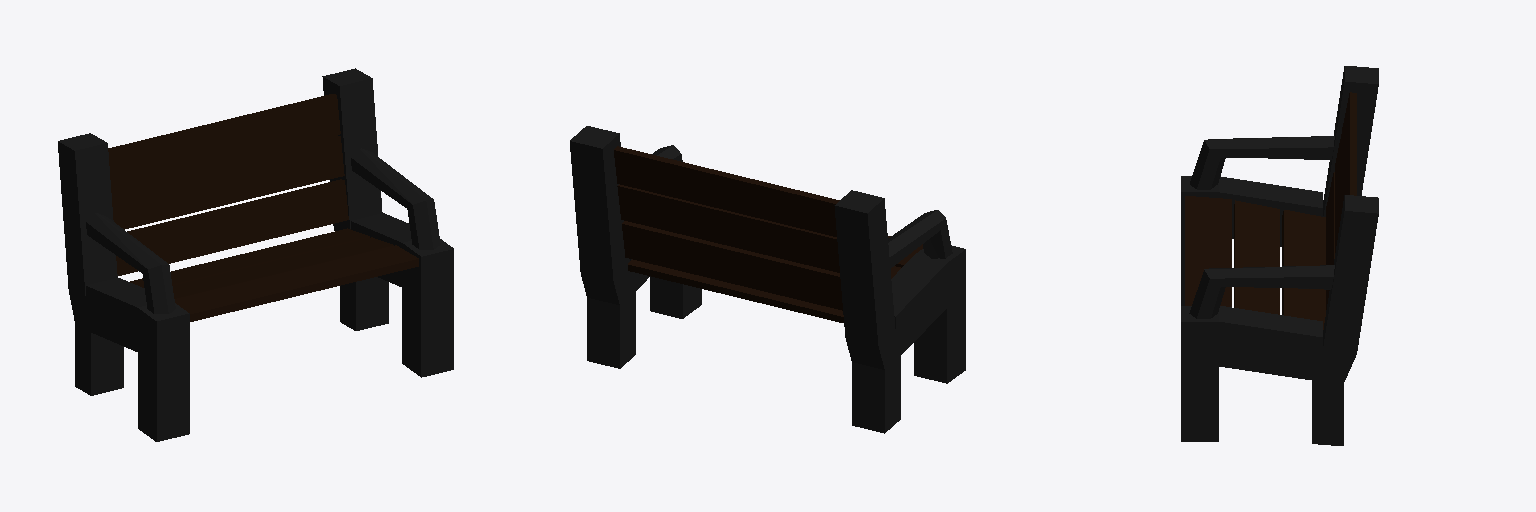
The model's file is Bench_02.fbx.obj.
3 views of the same model, side by side, from view 1: azimuth 30°, elevation 25°; view 2: azimuth 150°, elevation 25°; view 3: azimuth 270°, elevation 25° (orthographic).
Visible parts, largest first — view 1: Bench_02_Cube.039; view 2: Bench_02_Cube.039; view 3: Bench_02_Cube.039.
Part boxes in pixels (x1,y1,x2,y2): Bench_02_Cube.039: (58,68,453,441); Bench_02_Cube.039: (570,126,965,433); Bench_02_Cube.039: (1181,66,1378,445).
Size of the model in its own units: 16.8 by 12.7 by 9.67.